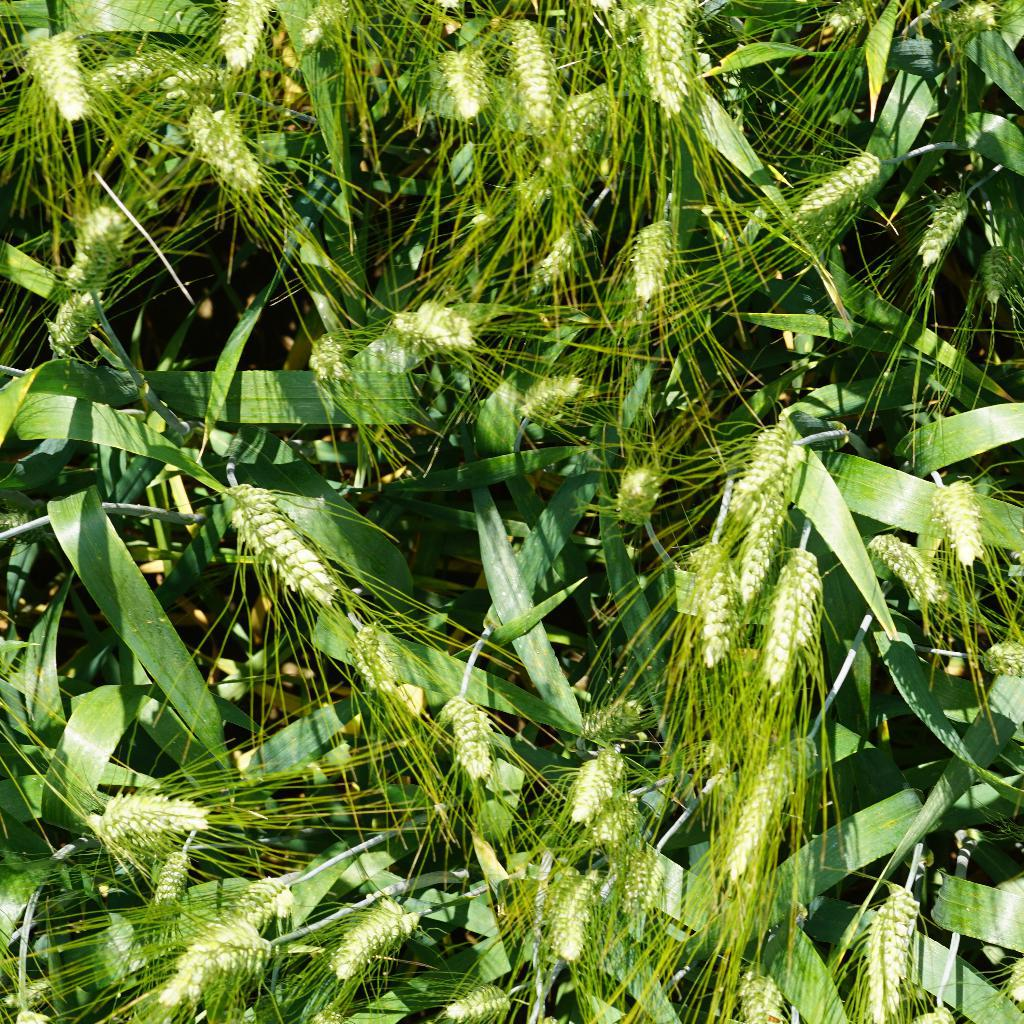0-0: (224, 468, 352, 609), (721, 732, 810, 877), (149, 920, 276, 1012), (765, 522, 833, 686), (733, 453, 804, 598), (79, 777, 220, 845), (862, 864, 920, 1024), (499, 9, 573, 134), (859, 515, 946, 620), (11, 14, 100, 116), (178, 97, 271, 191), (613, 193, 687, 309), (789, 145, 893, 227), (59, 191, 138, 296), (680, 531, 740, 669), (627, 0, 701, 108), (905, 169, 983, 266), (126, 830, 201, 925), (421, 29, 494, 126), (433, 686, 504, 785), (336, 904, 425, 982), (732, 406, 796, 514), (541, 857, 603, 967), (208, 869, 314, 933), (557, 736, 626, 825), (608, 832, 671, 927), (429, 963, 527, 1023), (542, 82, 615, 161), (36, 288, 126, 351), (937, 470, 993, 568), (391, 295, 478, 358), (718, 950, 792, 1024), (89, 36, 189, 90), (509, 363, 596, 422), (204, 0, 281, 66), (920, 0, 1004, 60), (342, 617, 403, 695), (575, 694, 664, 744), (613, 455, 671, 531), (295, 318, 359, 385), (523, 223, 580, 298), (584, 789, 648, 849), (150, 56, 257, 90), (492, 170, 558, 218), (815, 0, 879, 48), (301, 0, 357, 51), (972, 243, 1020, 299), (972, 637, 1024, 687), (687, 733, 733, 771)
